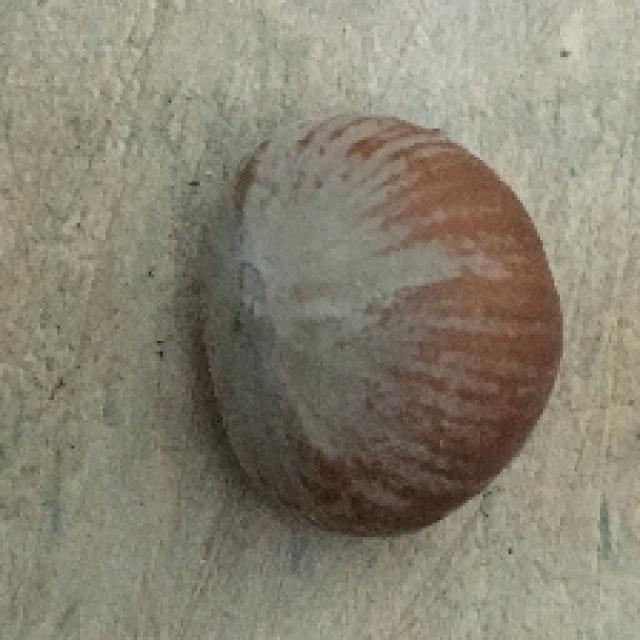qualityHazelnut: (189, 105, 561, 525)
